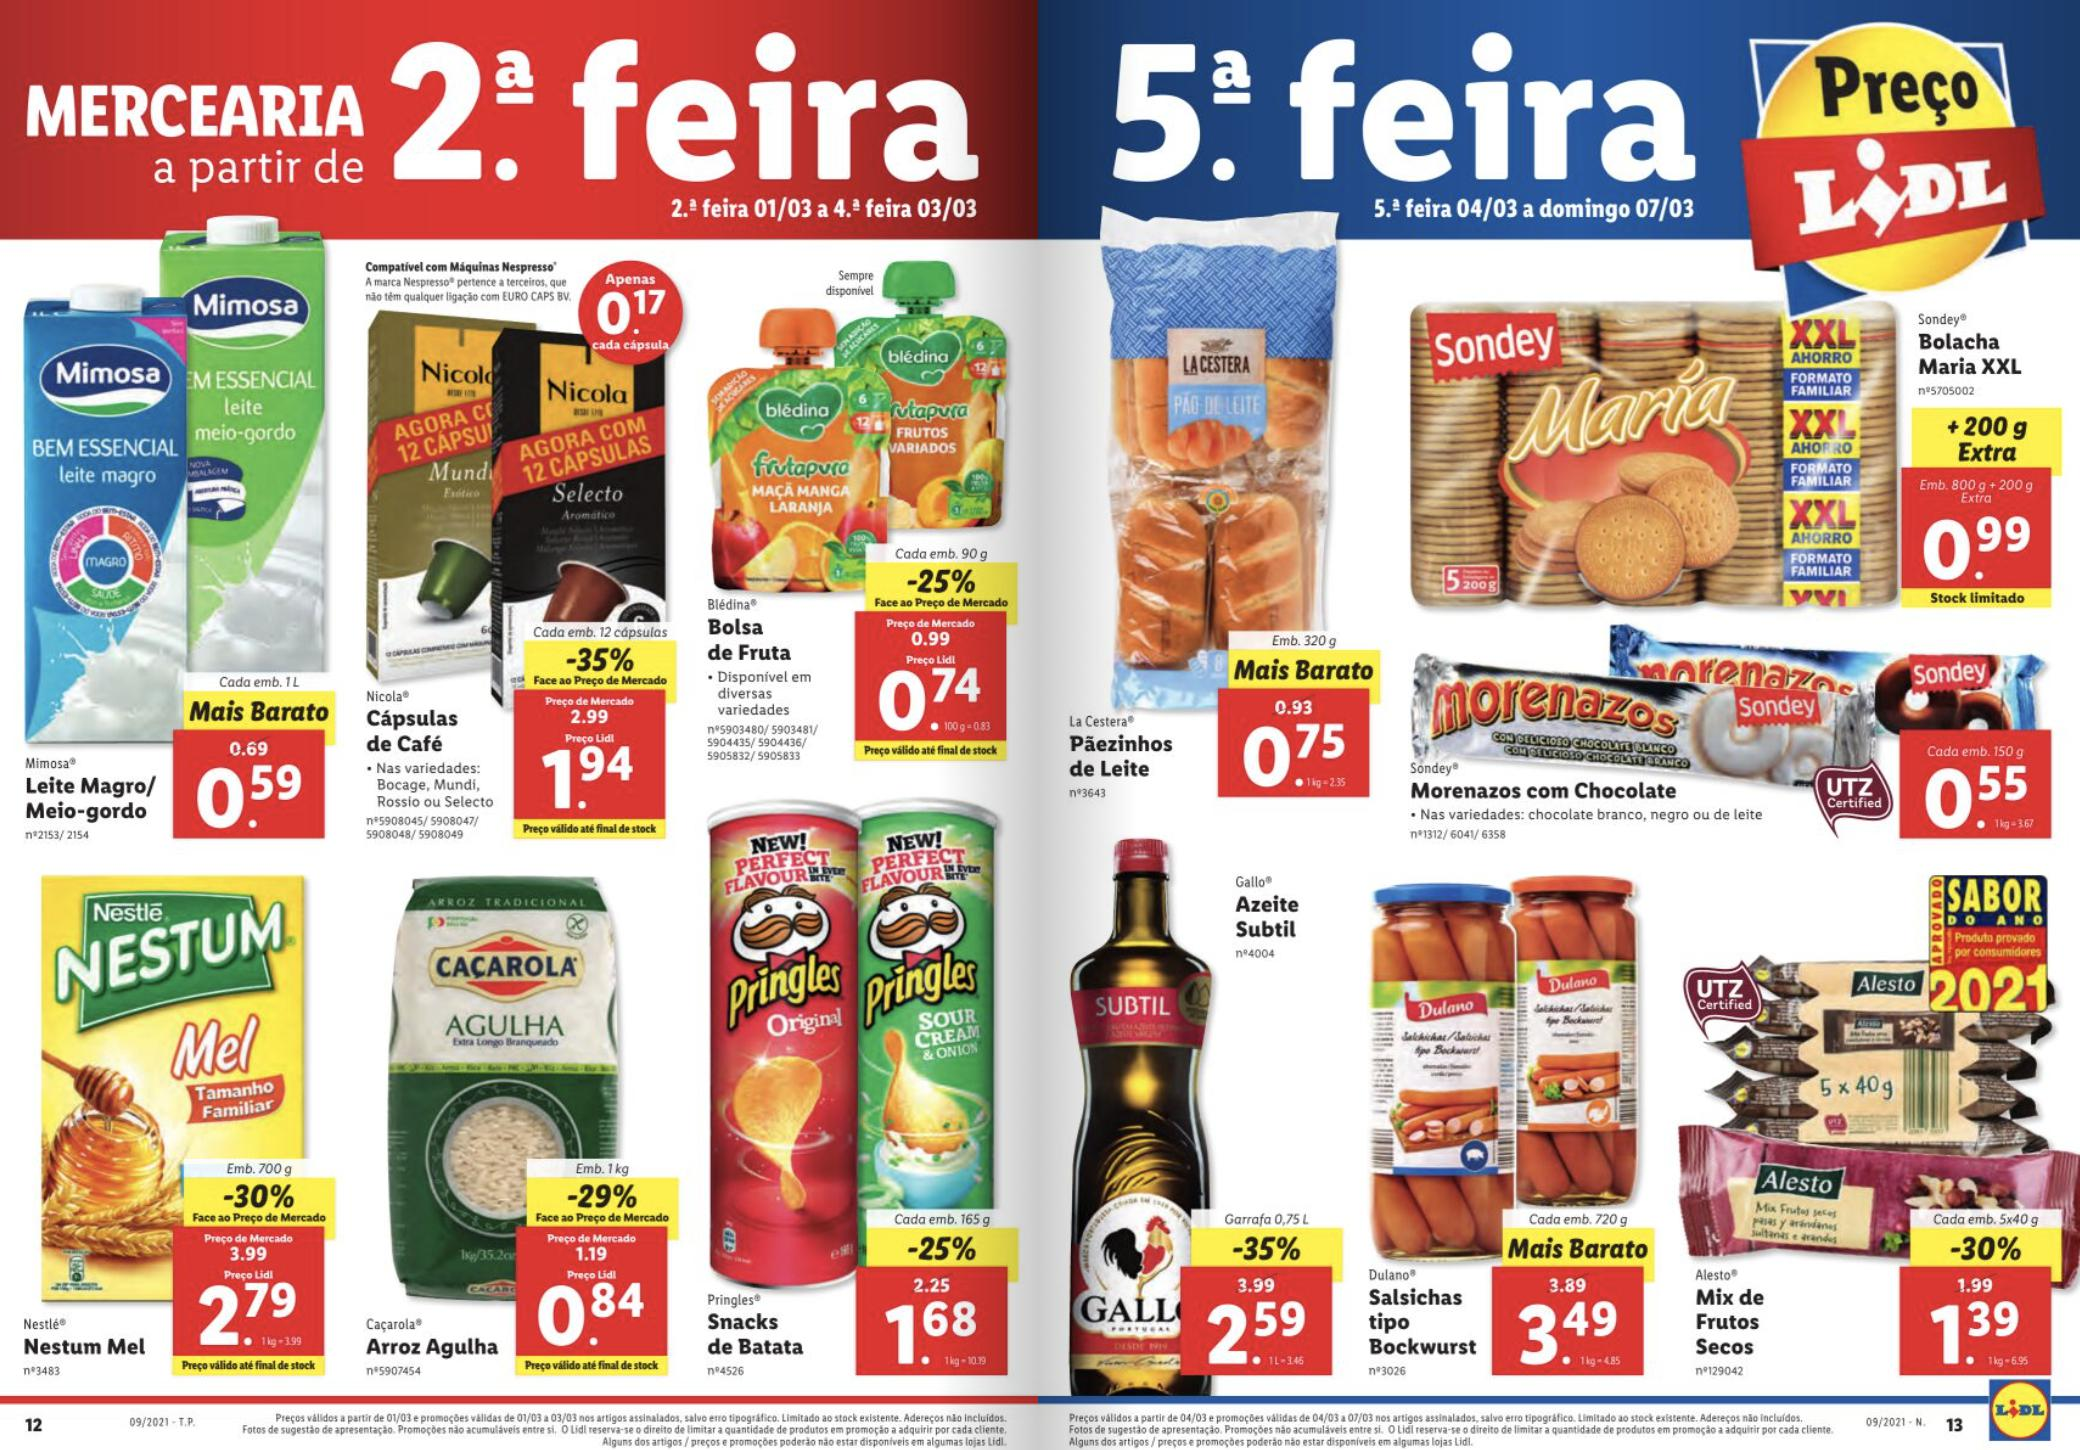name: (1362, 1276, 1487, 1365), (1396, 776, 1683, 808), (1683, 1286, 1781, 1369), (699, 1308, 816, 1365), (35, 773, 160, 822), (356, 1331, 511, 1369), (357, 702, 463, 757), (1068, 735, 1181, 787), (702, 610, 800, 667), (19, 1328, 155, 1365), (1225, 889, 1313, 941)
price: (183, 738, 316, 832), (1916, 753, 2040, 832), (869, 670, 1002, 738), (1238, 723, 1358, 794), (1922, 511, 2040, 582), (1200, 1300, 1317, 1369), (544, 1286, 661, 1350), (199, 1290, 310, 1358), (1522, 1305, 1637, 1369), (1935, 1293, 2034, 1368), (537, 753, 650, 818), (890, 1301, 996, 1369)
product: (1413, 261, 2072, 626), (2, 217, 356, 855), (1652, 863, 2072, 1396), (691, 784, 1034, 1376), (340, 844, 691, 1379), (1054, 232, 1378, 808), (13, 862, 340, 1379), (1064, 821, 1355, 1388), (1351, 867, 1652, 1396), (1389, 620, 2066, 848)
promotion: (899, 1232, 986, 1273), (1946, 1232, 2034, 1270), (1228, 1232, 1307, 1270), (569, 1183, 654, 1218), (563, 644, 646, 678), (899, 565, 986, 598), (217, 1183, 305, 1214)
